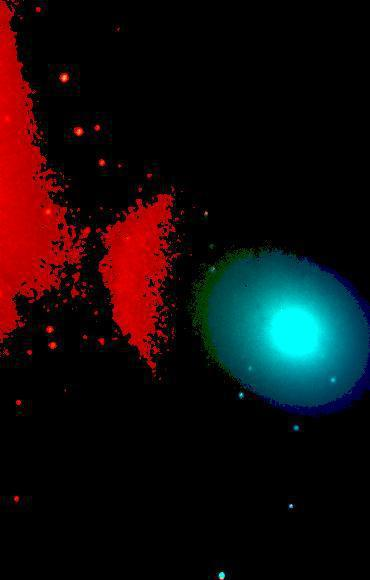star: (105, 149, 135, 179)
